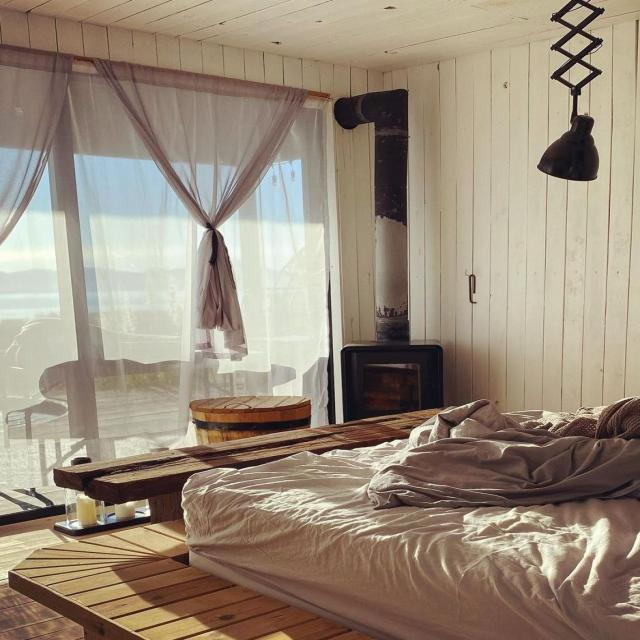bed: (169, 390, 639, 640)
